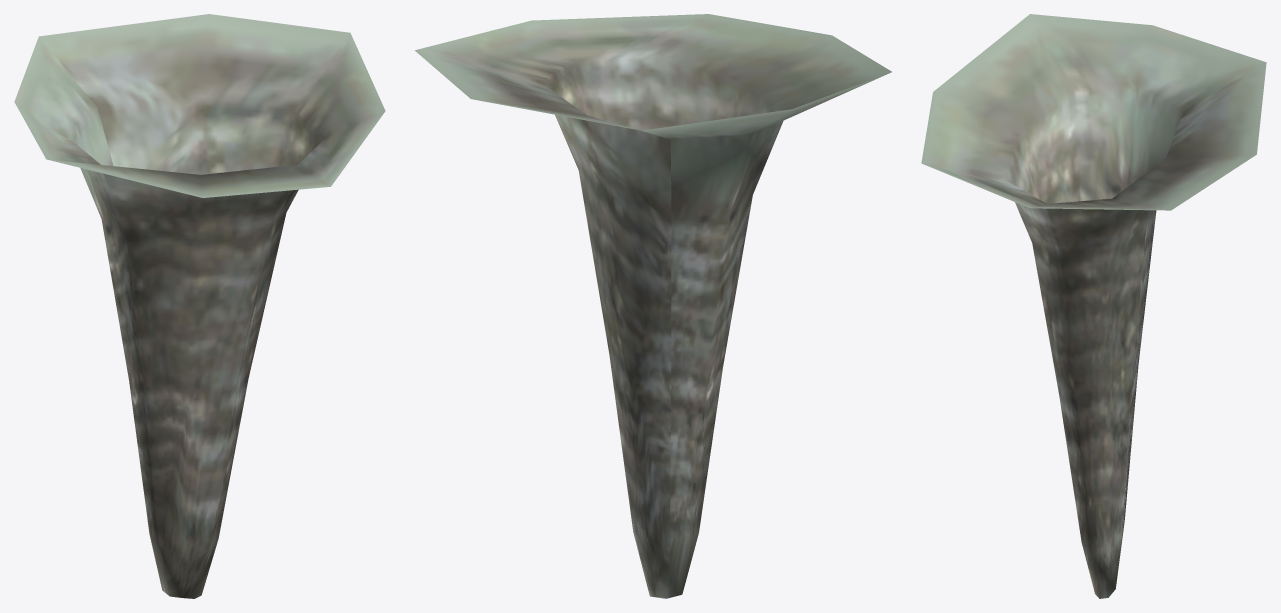
Rendered from TROLLHOLE02_PS-SECRETSTALAG26.fbx.
The picture shows the model from 3 angles, left to right: view 1: azimuth 30°, elevation 25°; view 2: azimuth 150°, elevation 25°; view 3: azimuth 270°, elevation 25°; orthographic projection. The views are drawn at different scales.
Visible parts, largest first — view 1: TROLLHOLE02_PS-SECRETSTALAG26; view 2: TROLLHOLE02_PS-SECRETSTALAG26; view 3: TROLLHOLE02_PS-SECRETSTALAG26.
Part boxes in pixels (x1,y1,x2,y2): TROLLHOLE02_PS-SECRETSTALAG26: (14, 14, 385, 598); TROLLHOLE02_PS-SECRETSTALAG26: (415, 14, 891, 598); TROLLHOLE02_PS-SECRETSTALAG26: (921, 14, 1266, 598).
Bounding box in the file's own units: 21923 × 28656 × 17906.
Materials: 1 (1 with a texture image).
